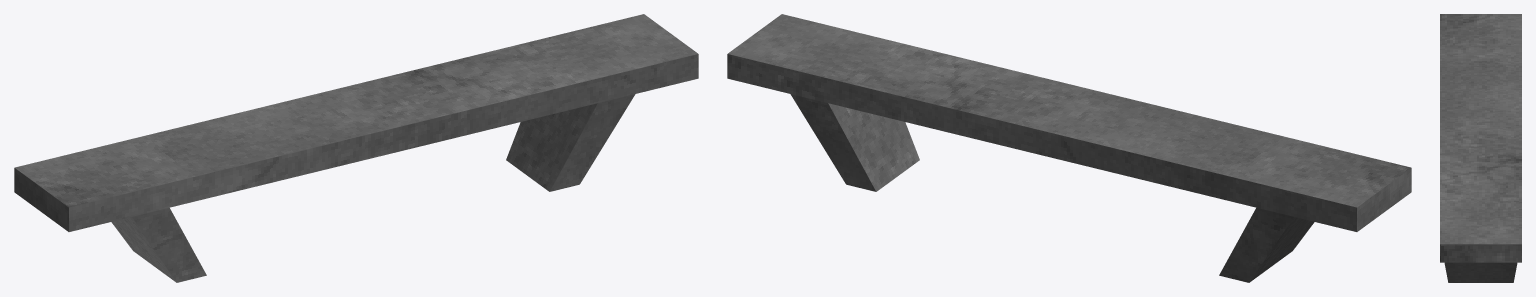
File: Bench_internal.glb
3 renders of one model, left to right at view 1: azimuth 30°, elevation 25°; view 2: azimuth 150°, elevation 25°; view 3: azimuth 270°, elevation 25°, orthographic. The views are drawn at different scales.
Visible parts, largest first — view 1: Bench internal; view 2: Bench internal; view 3: Bench internal.
Boxes of the visible parts, x1,y1,x2,y2 form: Bench internal: (14,14,698,282); Bench internal: (727,14,1411,282); Bench internal: (1440,14,1521,282).
Bounding box in the file's own units: 4 × 0.65 × 0.6.
1 material, 1 textured.
